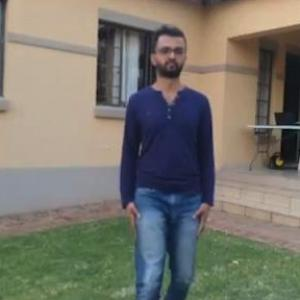follow: (123, 22, 215, 285)
